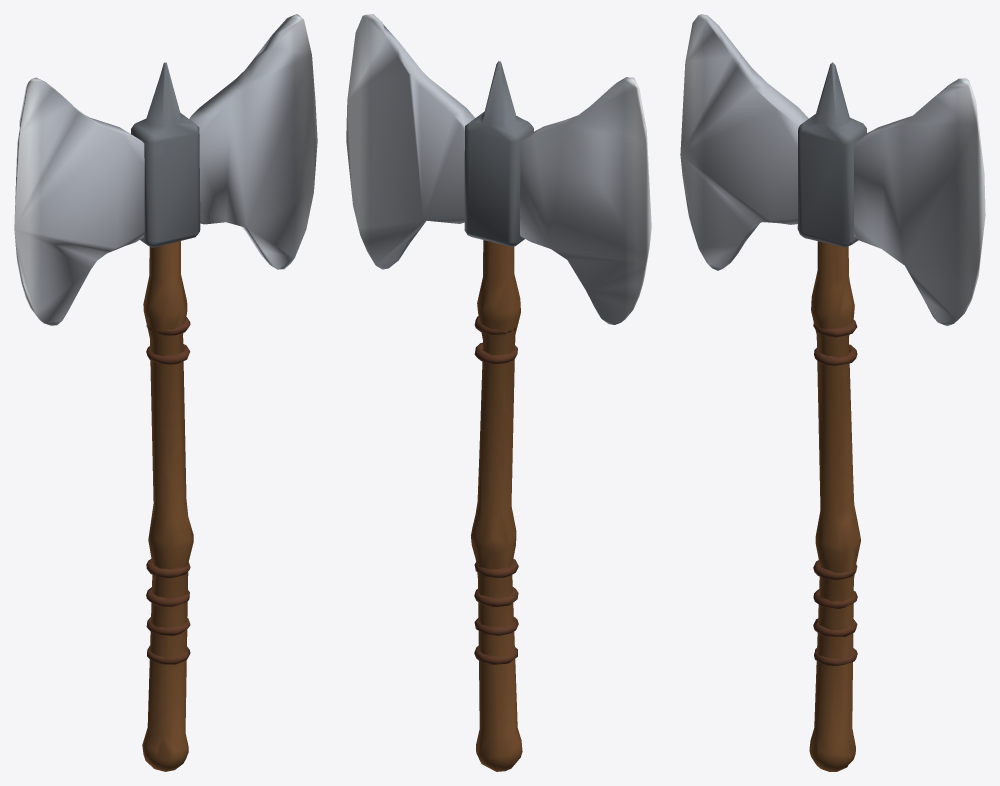
Rendered from great-axe.glb.
3 renders of one model, left to right at view 1: azimuth 30°, elevation 25°; view 2: azimuth 150°, elevation 25°; view 3: azimuth 330°, elevation 25°, orthographic.
Parts seen in each view (by area): view 1: haft; view 2: haft; view 3: haft.
Part boxes in pixels (bbox=[...]): haft: bbox=[14, 14, 317, 771]; haft: bbox=[346, 14, 651, 771]; haft: bbox=[680, 14, 985, 771].
Size of the model in its own units: 0.5512 by 1.25 by 0.0729.
Materials: 1 (1 with a texture image).
